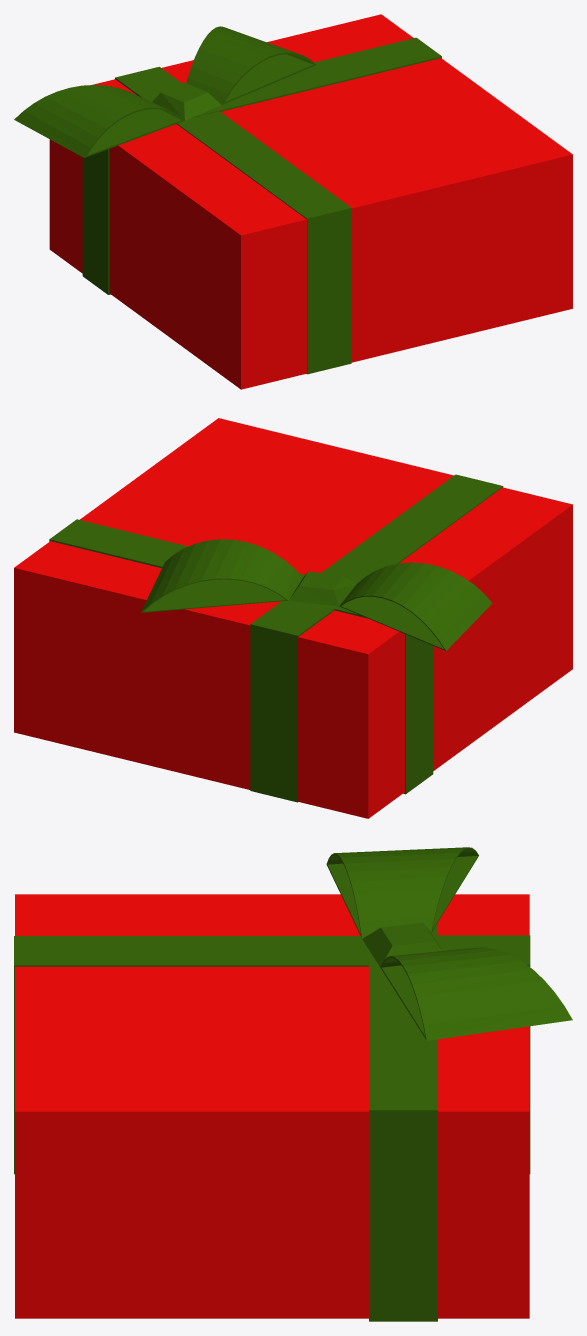
File: Prop_Christmas_Present_Red_01.FBX
3 views of the same model, one above another, from view 1: azimuth 30°, elevation 25°; view 2: azimuth 150°, elevation 25°; view 3: azimuth 270°, elevation 25° (orthographic). The views are drawn at different scales.
Parts seen in each view (by area): view 1: Prop_Christmas_Present_Red_01; view 2: Prop_Christmas_Present_Red_01; view 3: Prop_Christmas_Present_Red_01.
Part boxes in pixels (<box>): Prop_Christmas_Present_Red_01: <box>14,14,572,389</box>; Prop_Christmas_Present_Red_01: <box>14,418,572,818</box>; Prop_Christmas_Present_Red_01: <box>14,847,572,1321</box>.
Size of the model in its own units: 387 by 178 by 360.
